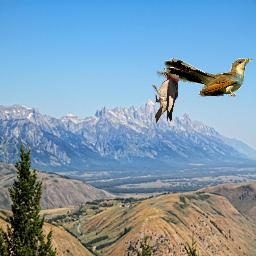Cuckoo: (164, 58, 252, 97)
Woodpecker: (151, 70, 179, 124)
